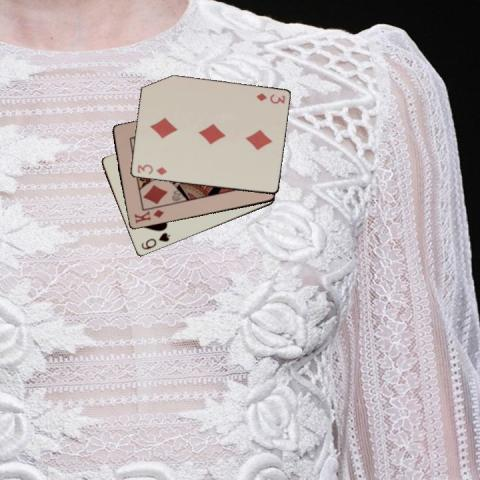3d: (134, 161, 168, 177), (253, 90, 286, 105)
6s: (138, 230, 171, 251)
Kd: (131, 207, 166, 225)
